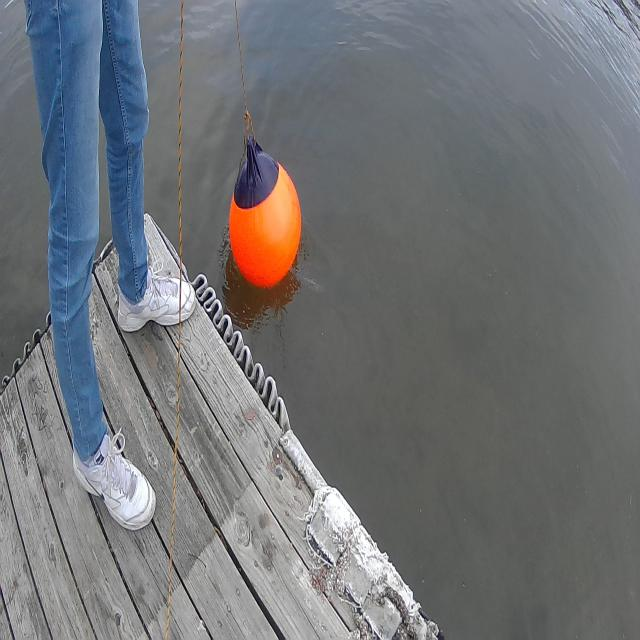Buoy: (212, 98, 314, 308)
